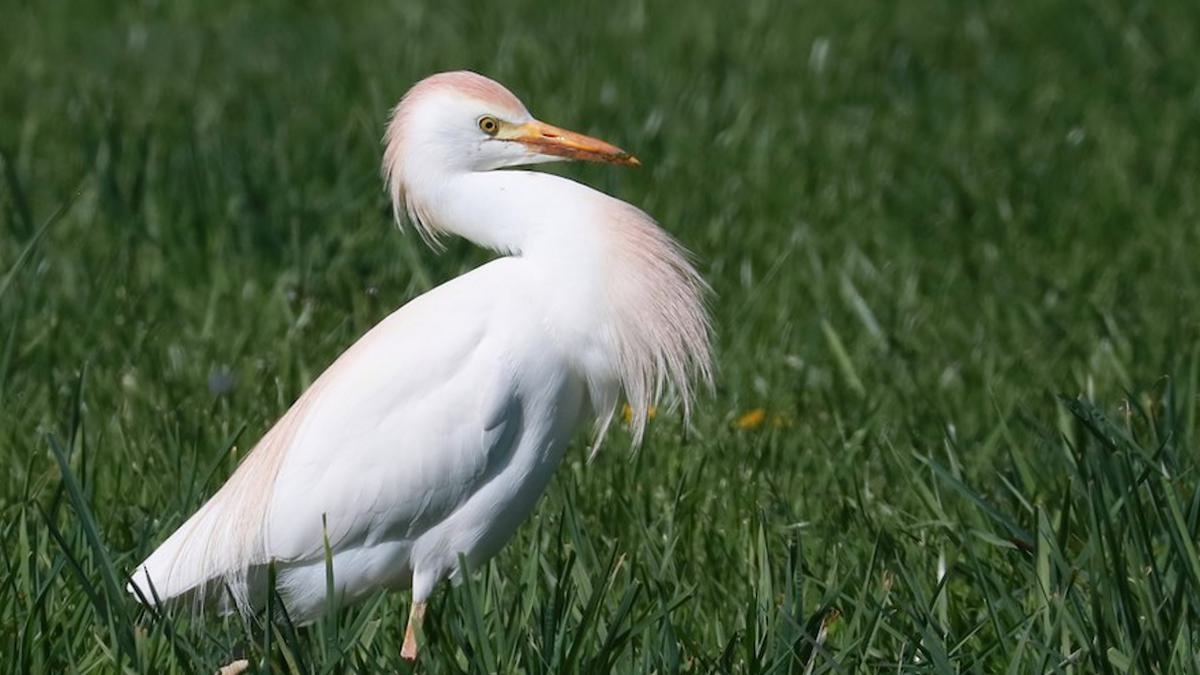egret: (136, 53, 719, 657)
